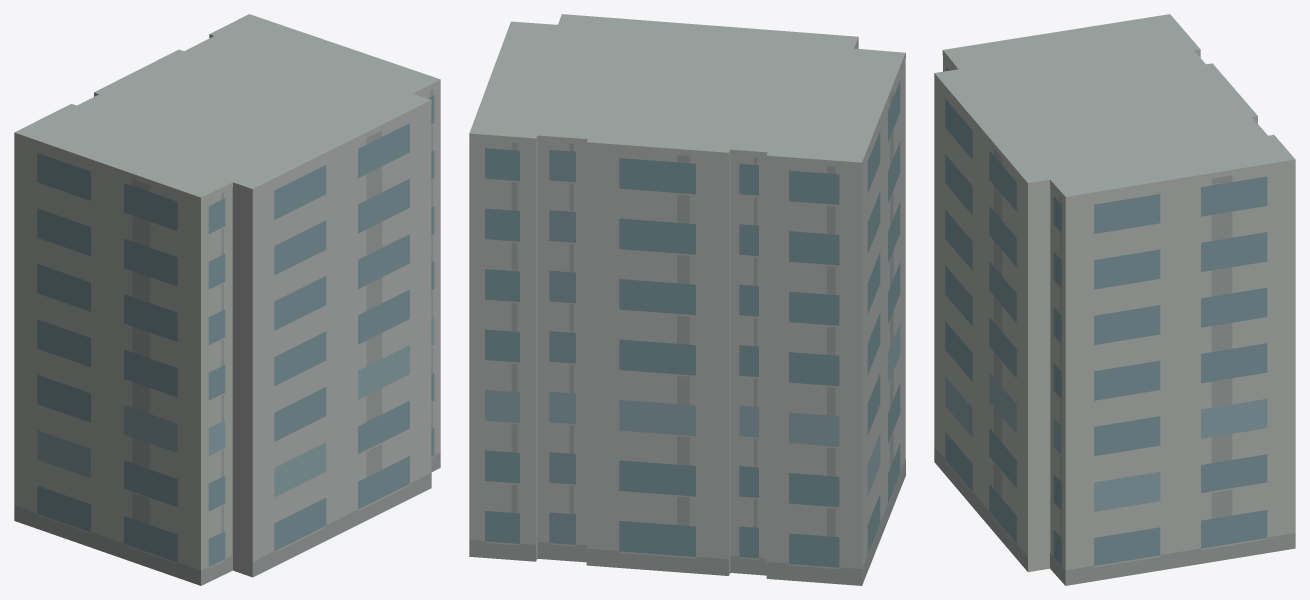
File: survey-upis-32849074.glb
The picture shows the model from 3 angles, left to right: view 1: azimuth 30°, elevation 25°; view 2: azimuth 150°, elevation 25°; view 3: azimuth 270°, elevation 25°; orthographic projection. The views are drawn at different scales.
Visible parts, largest first — view 1: survey-upis-32849074.tmp; view 2: survey-upis-32849074.tmp; view 3: survey-upis-32849074.tmp.
Part boxes in pixels (box(x1,y1,x2,y2)): survey-upis-32849074.tmp: box(14, 14, 440, 585); survey-upis-32849074.tmp: box(469, 14, 905, 585); survey-upis-32849074.tmp: box(934, 14, 1295, 585).
Bounding box in the file's own units: 17.51 × 17.35 × 14.61.
